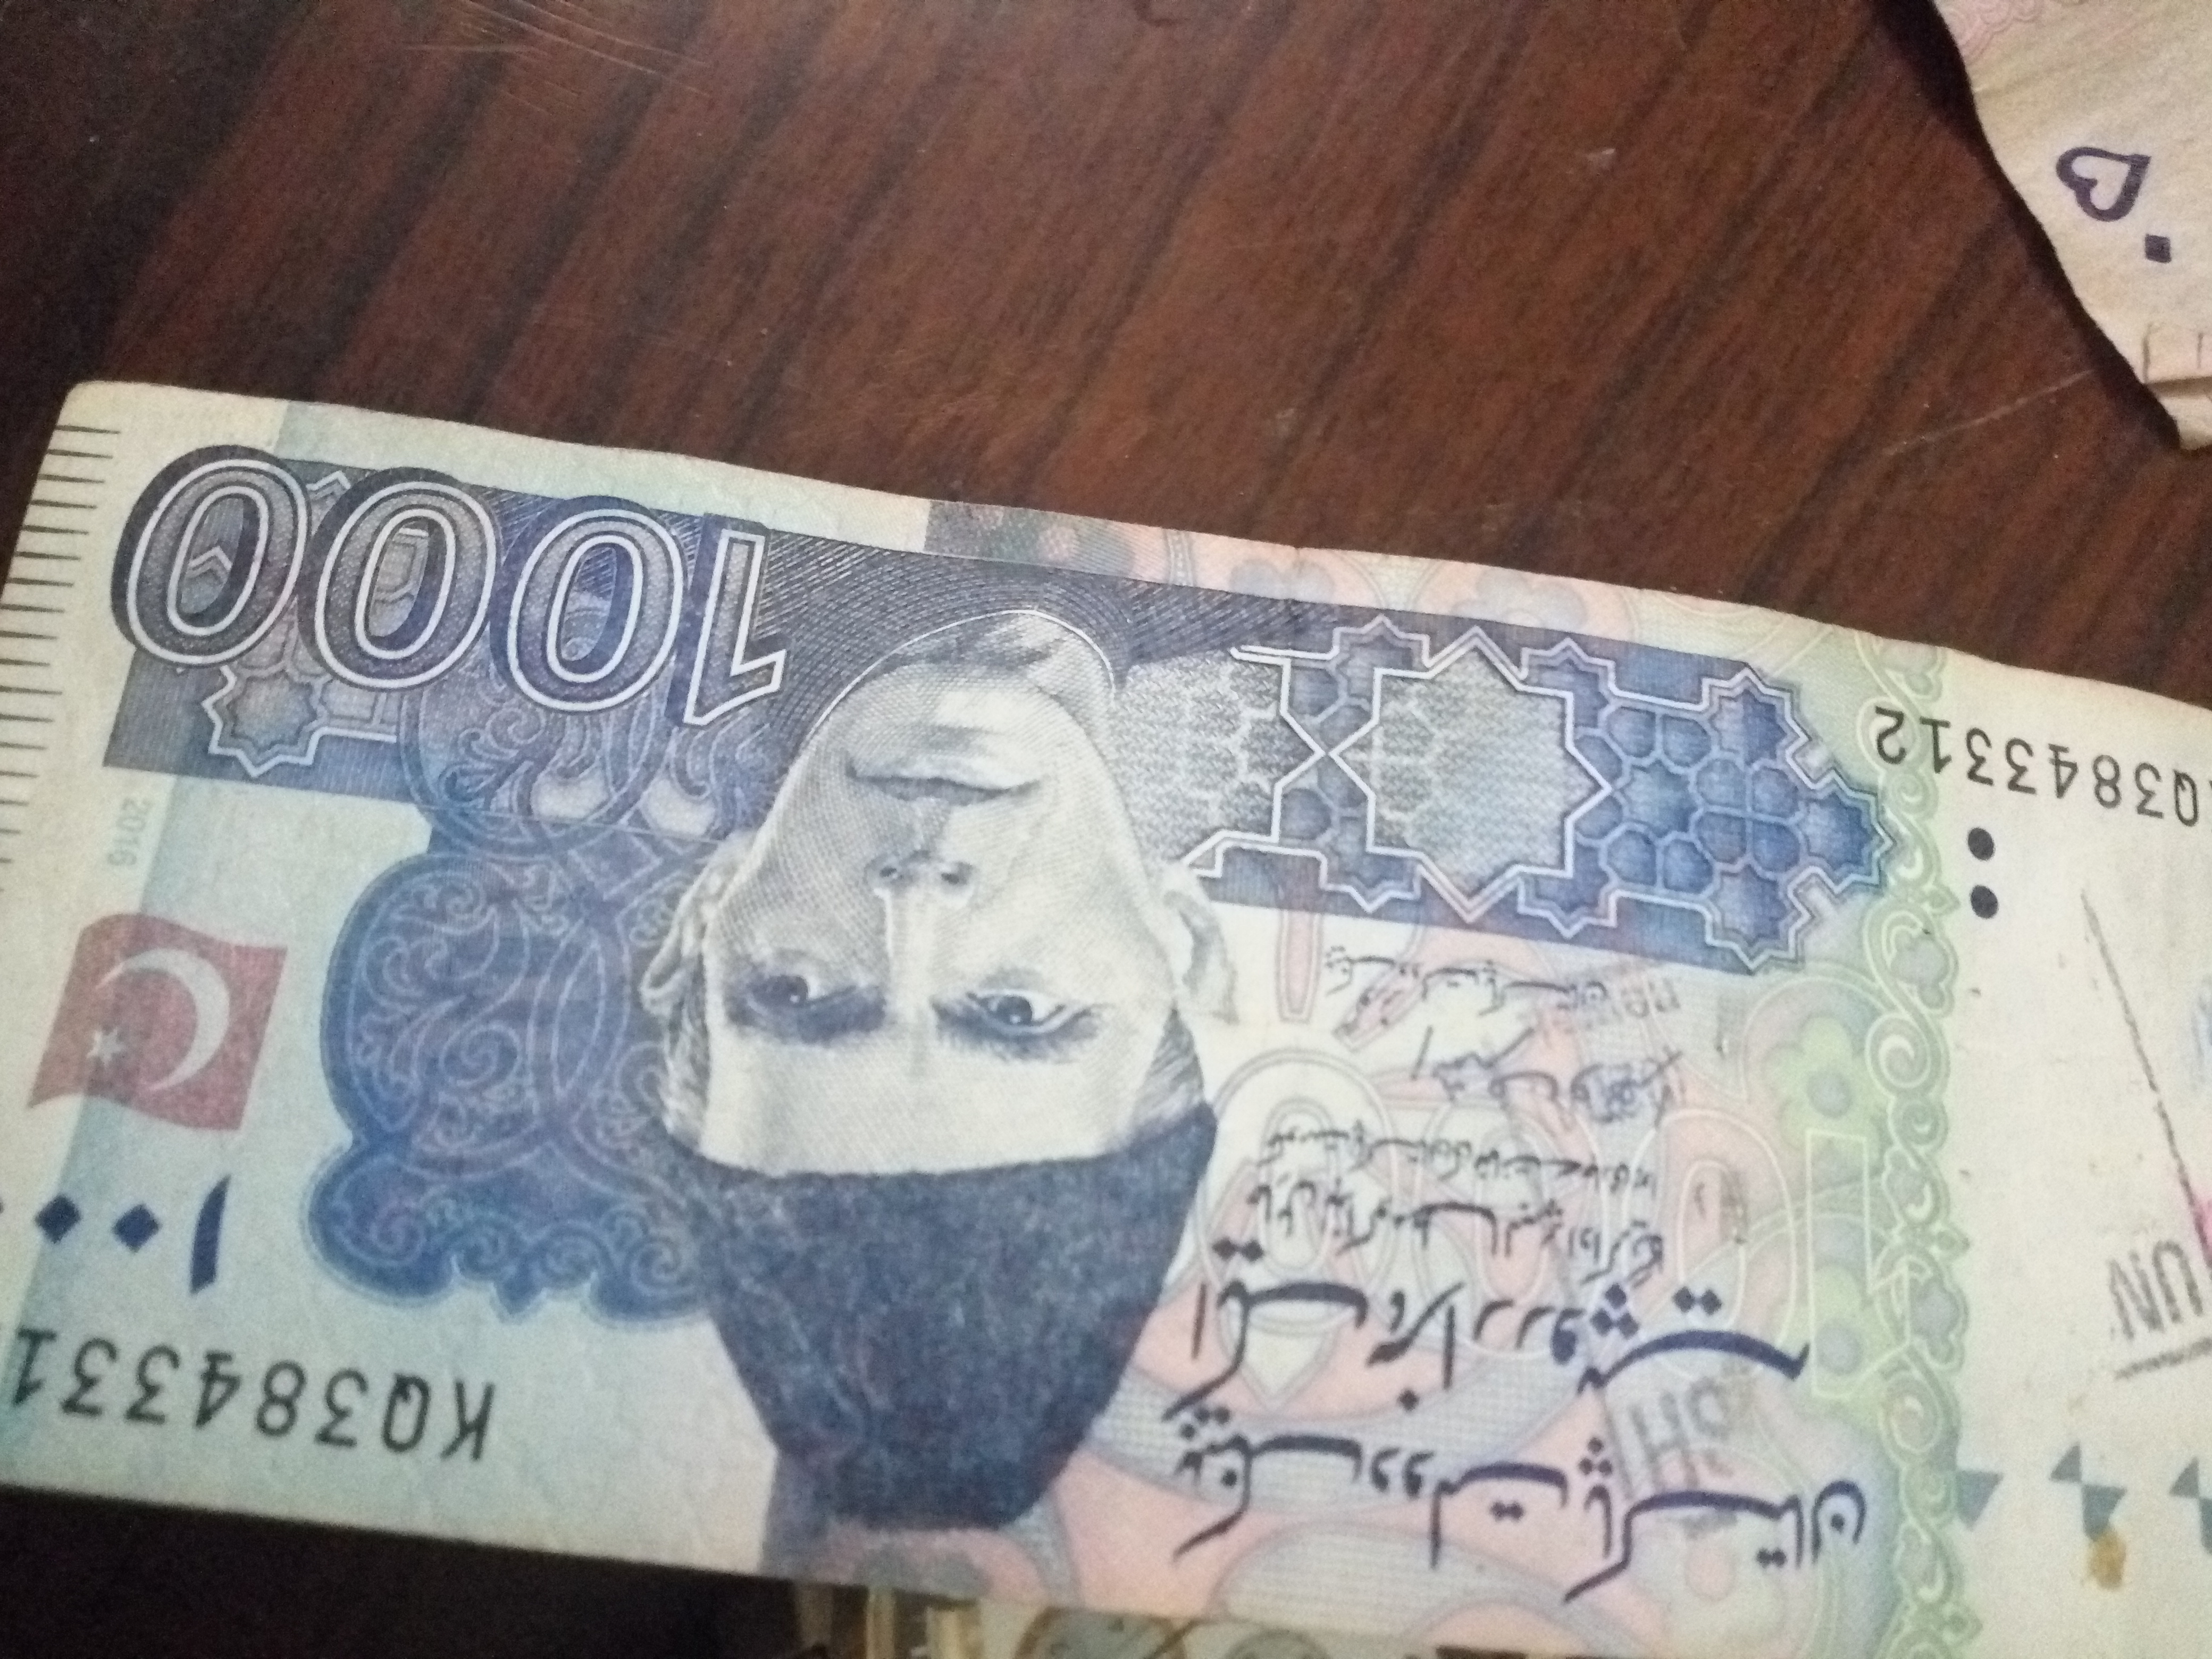1000 rupee: (12, 364, 2212, 1659)
